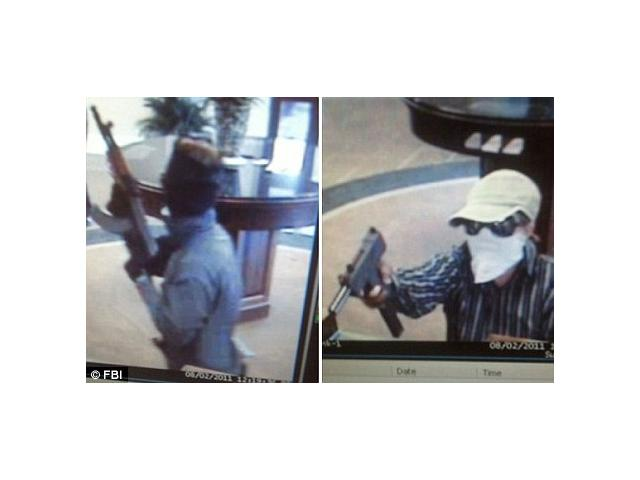rifle: (86, 102, 165, 292)
